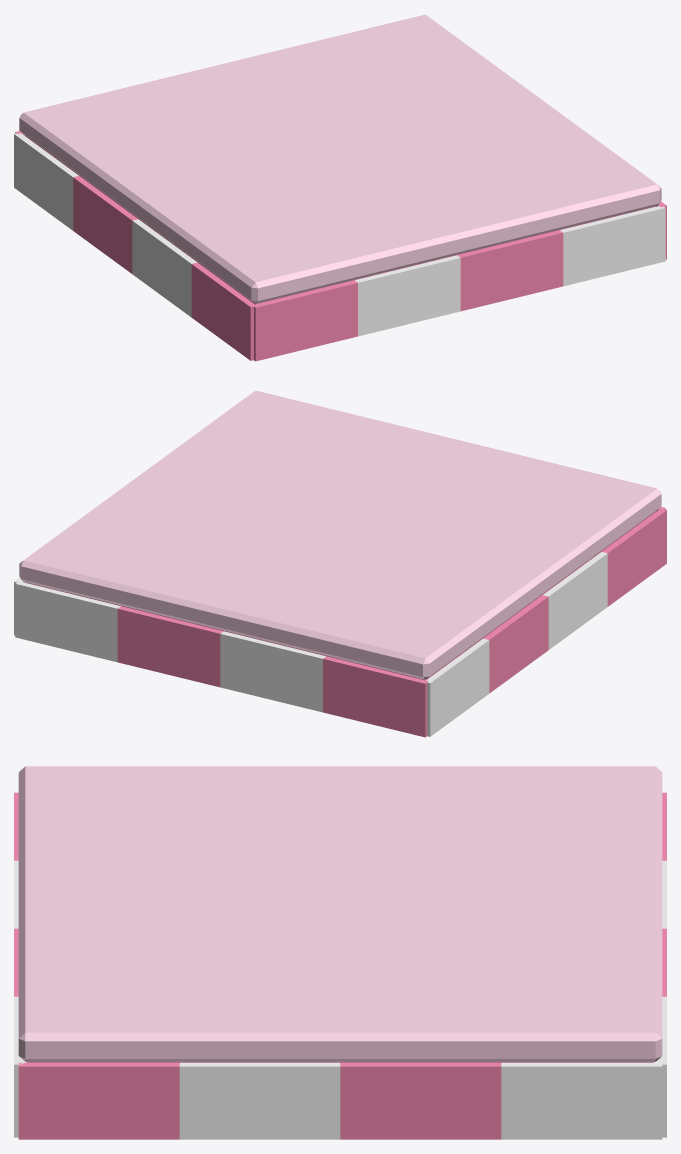
File: floor_tile_b.glb
3 views of the same model, one above another, from view 1: azimuth 30°, elevation 25°; view 2: azimuth 150°, elevation 25°; view 3: azimuth 270°, elevation 25° (orthographic). The views are drawn at different scales.
Visible parts, largest first — view 1: floor_tile_b; view 2: floor_tile_b; view 3: floor_tile_b.
Part boxes in pixels (x1,y1,x2,y2): floor_tile_b: [14, 14, 666, 361]; floor_tile_b: [14, 390, 666, 737]; floor_tile_b: [14, 766, 666, 1139].
Bounding box in the file's own units: 4.06 × 0.7 × 4.06.
